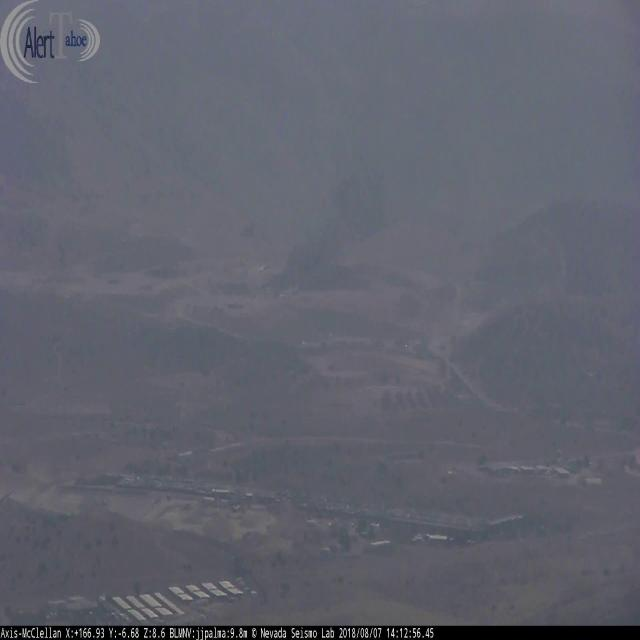smoke: (252, 130, 409, 301)
